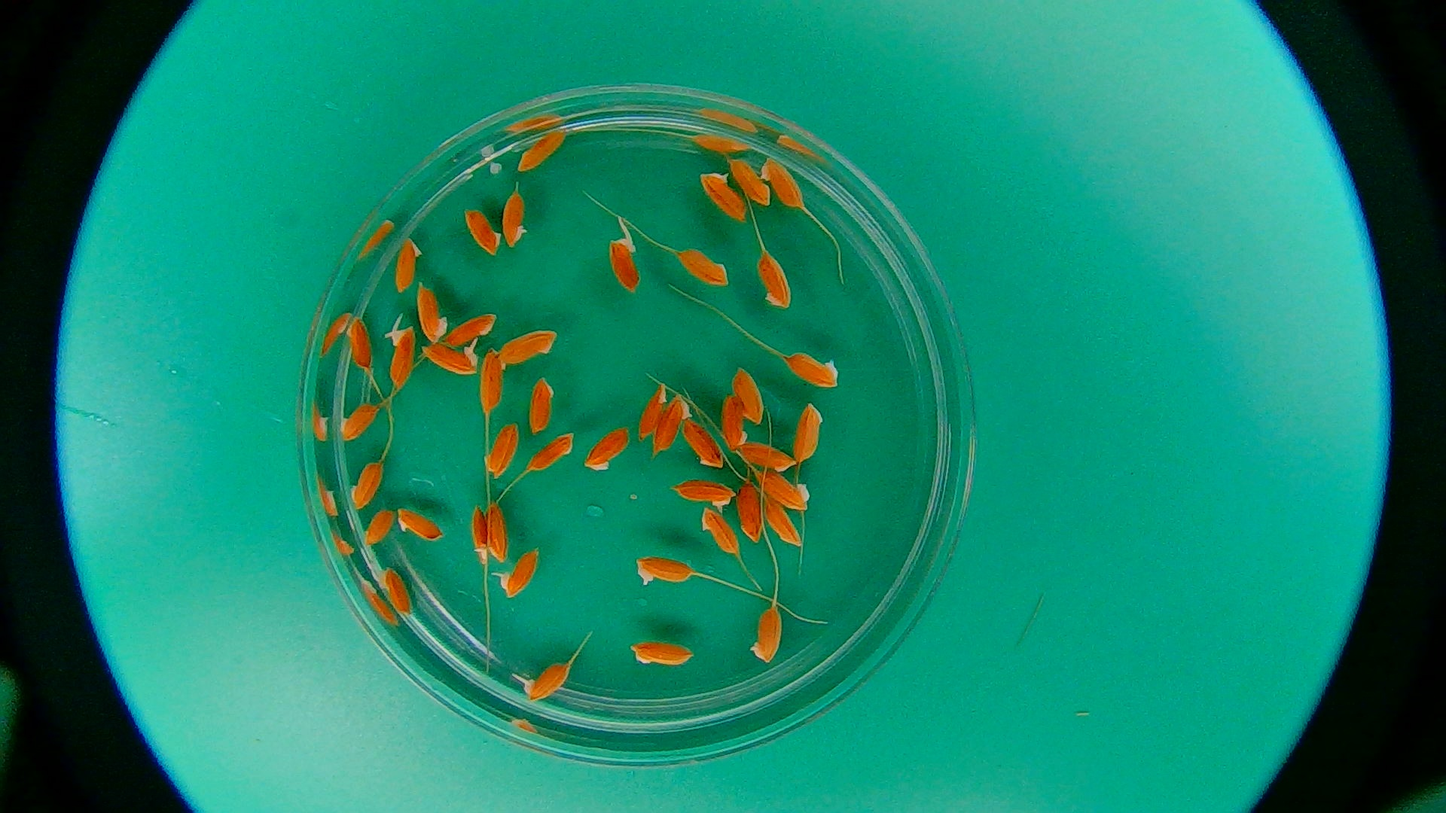no: (697, 167, 748, 224), (511, 127, 569, 175), (753, 463, 811, 511), (784, 346, 840, 394), (677, 242, 731, 291), (652, 392, 693, 455), (758, 153, 804, 208), (728, 157, 774, 210), (756, 250, 795, 312), (667, 477, 736, 512), (730, 362, 766, 428), (763, 495, 805, 551), (583, 425, 630, 475), (679, 419, 725, 470), (414, 279, 450, 344), (737, 439, 800, 476), (630, 552, 693, 589), (482, 421, 521, 480), (496, 330, 558, 366), (459, 202, 501, 255), (526, 431, 577, 473), (348, 460, 388, 513), (628, 637, 694, 669), (444, 309, 496, 349), (749, 607, 784, 666), (375, 564, 413, 617), (792, 402, 825, 462), (700, 507, 740, 556), (637, 378, 667, 443), (394, 504, 444, 542), (391, 236, 423, 294), (720, 391, 749, 454), (737, 479, 765, 544), (485, 500, 514, 562), (338, 403, 380, 445), (478, 346, 505, 411), (344, 316, 374, 370), (502, 190, 529, 248), (528, 376, 555, 434), (362, 507, 394, 553), (467, 504, 490, 568), (691, 129, 751, 153)
yes: (419, 340, 480, 377), (386, 321, 416, 393), (602, 236, 639, 292), (501, 548, 539, 598), (527, 663, 572, 705)
